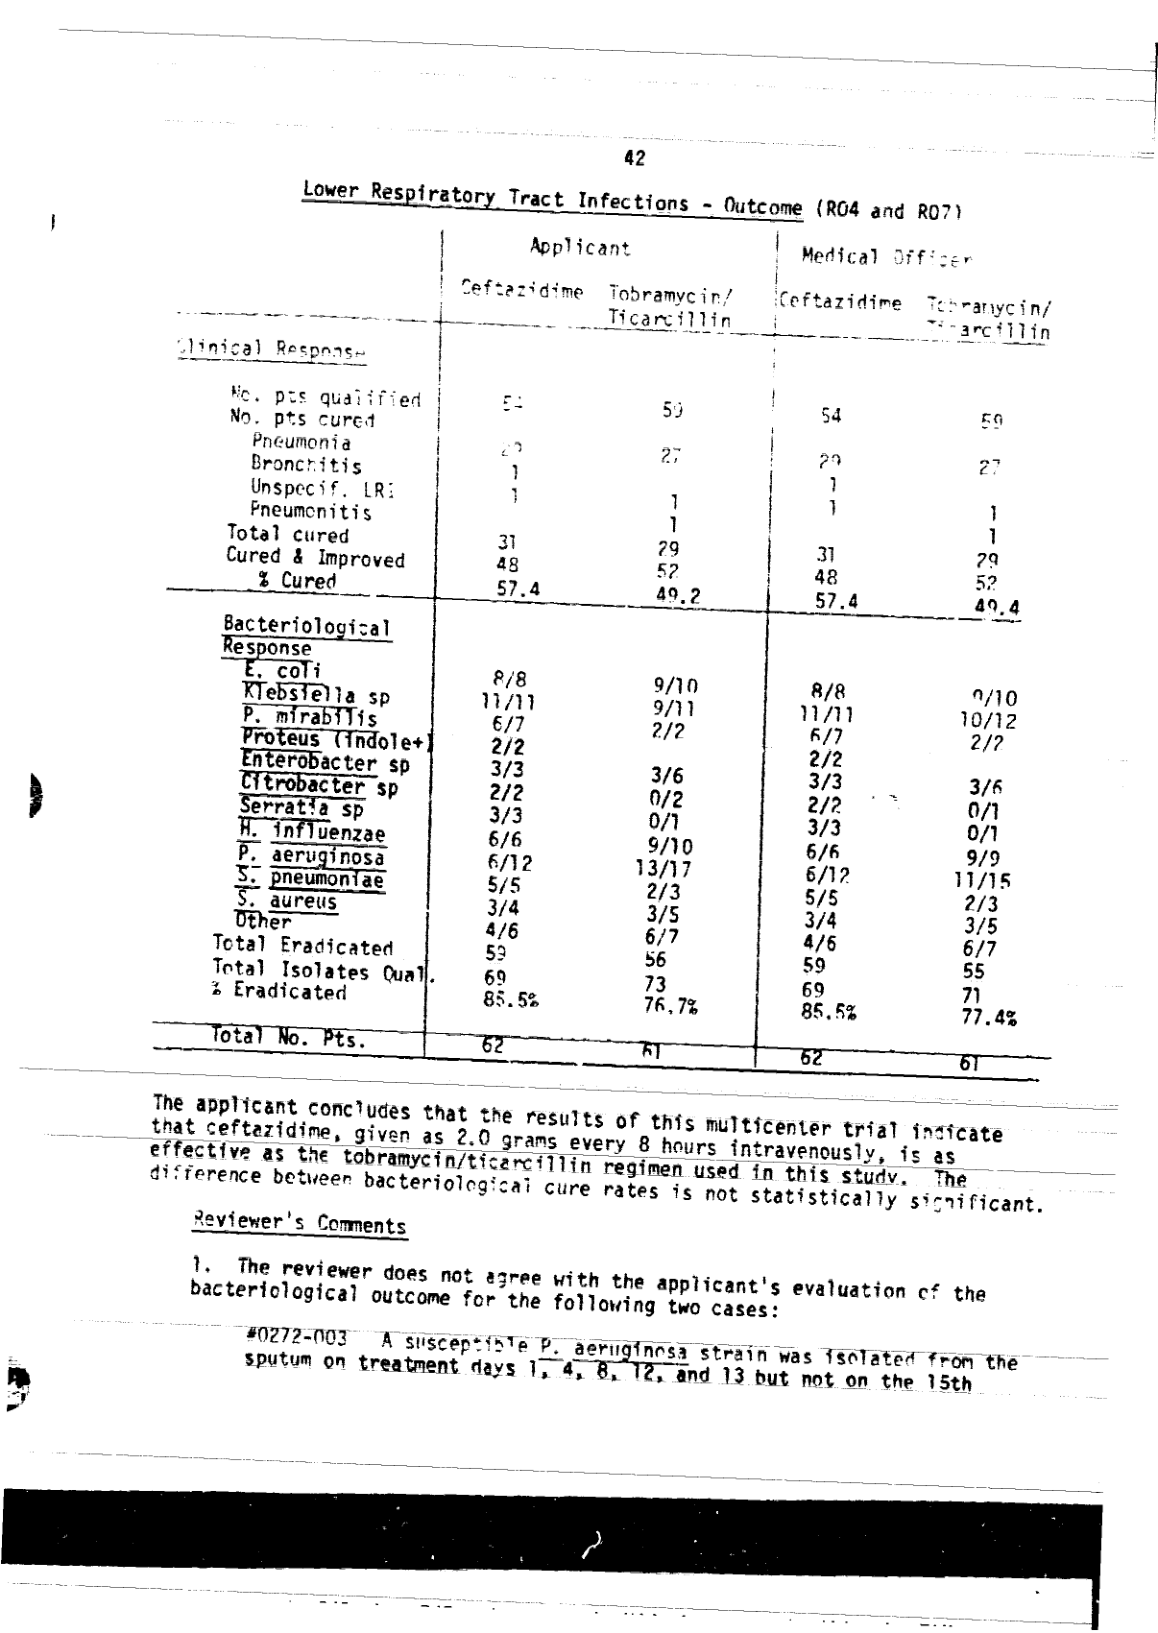partial_lined_merged_cells: (142, 231, 1077, 1088)
